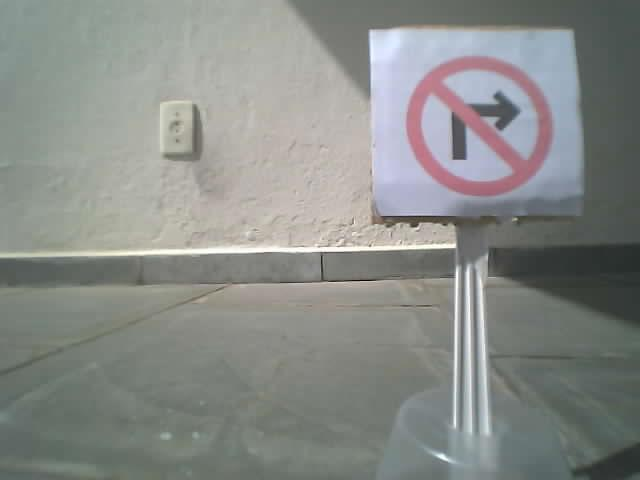R-4b_proibido-direita: (405, 55, 552, 195)
